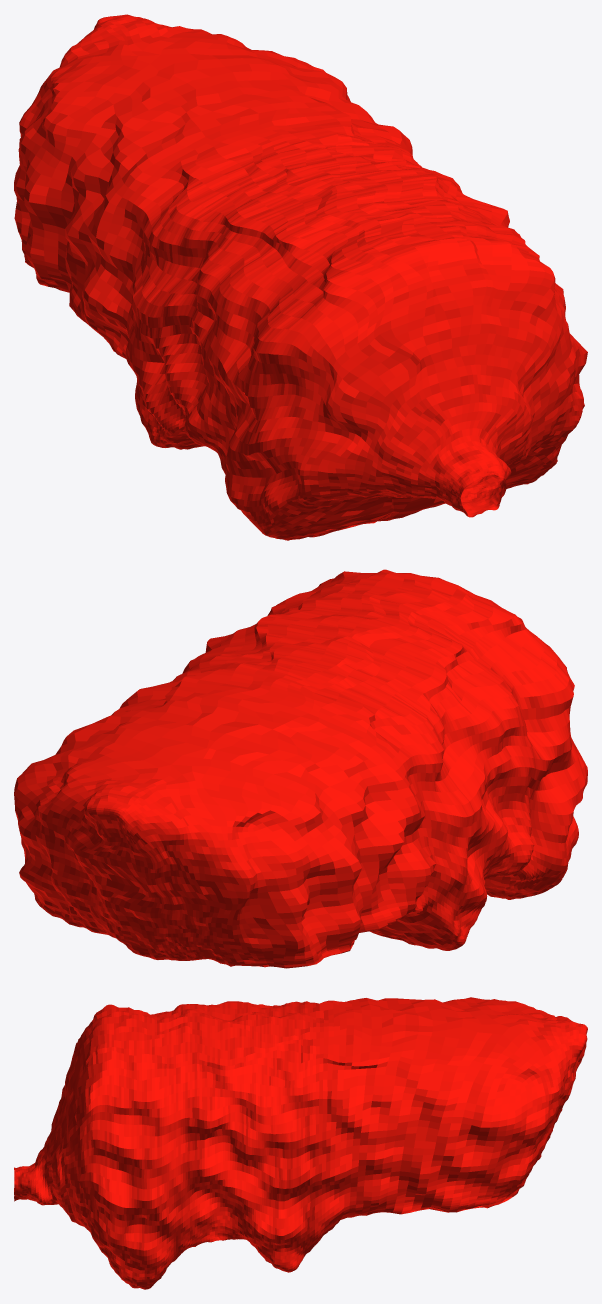
Rendered from Hell.fbx.
3 renders of one model, top to bottom at view 1: azimuth 30°, elevation 25°; view 2: azimuth 150°, elevation 25°; view 3: azimuth 270°, elevation 25°, orthographic. The views are drawn at different scales.
Visible parts, largest first — view 1: Hell_level; view 2: Hell_level; view 3: Hell_level.
Boxes of the visible parts, left/top/right/bottom form: Hell_level: left=14, top=14, right=587, bottom=540; Hell_level: left=14, top=569, right=587, bottom=968; Hell_level: left=14, top=997, right=587, bottom=1289.
Size of the model in its own units: 8189 by 6460 by 15546.
